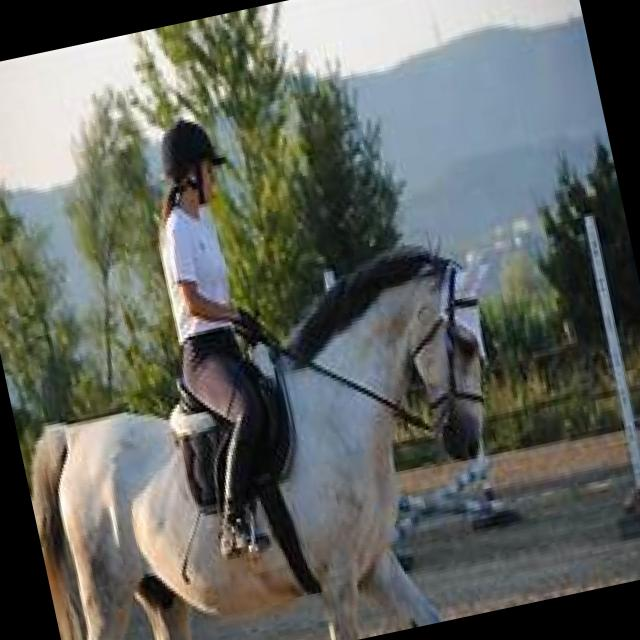horse: (0, 222, 551, 640)
